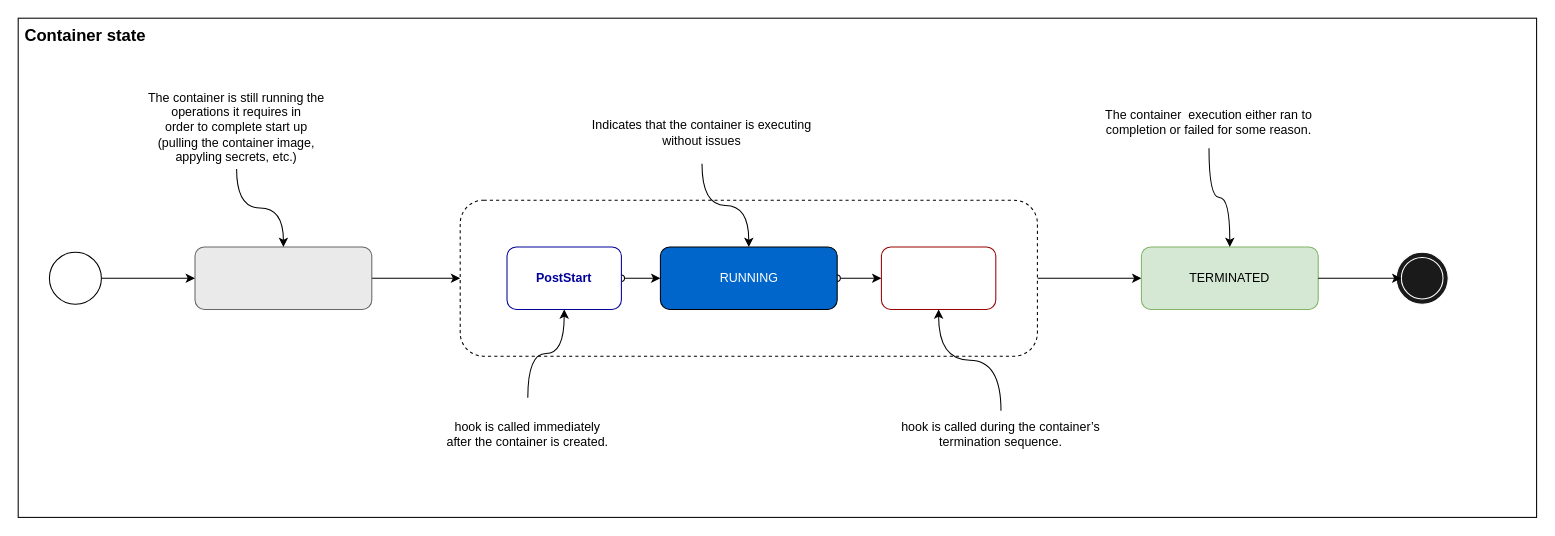
Some shapes in this 1555 by 536 pixel diagram are drawn without their labels. The shapes that lost their labels are listed below. From the top down, each one's box as (x1, y1, x2, y2) in pixels, then its label:
(194, 246, 372, 309): WAITING
(880, 246, 996, 309): PreStop
